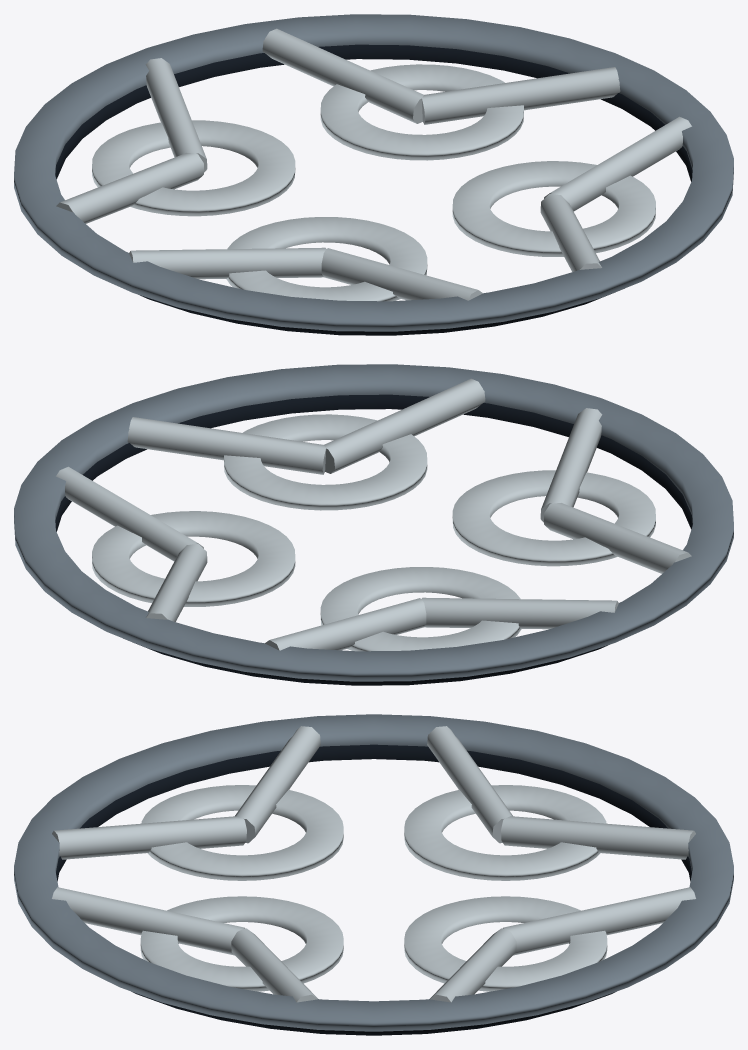
Rendered from sls_core_engine_frame.glb.
The picture shows the model from 3 angles, top to bottom: view 1: azimuth 30°, elevation 25°; view 2: azimuth 150°, elevation 25°; view 3: azimuth 270°, elevation 25°; orthographic projection.
Parts seen in each view (by area): view 1: sls_core_engine_frame.mesh_Satin_aluminum, sls_core_engine_frame.mesh_Machined_steel, sls_core_engine_frame.mesh_Shadowed_interior; view 2: sls_core_engine_frame.mesh_Satin_aluminum, sls_core_engine_frame.mesh_Machined_steel, sls_core_engine_frame.mesh_Shadowed_interior; view 3: sls_core_engine_frame.mesh_Satin_aluminum, sls_core_engine_frame.mesh_Machined_steel, sls_core_engine_frame.mesh_Shadowed_interior.
Part boxes in pixels (left/top/right/bottom): sls_core_engine_frame.mesh_Satin_aluminum: left=56, top=28, right=691, bottom=301; sls_core_engine_frame.mesh_Machined_steel: left=14, top=14, right=733, bottom=331; sls_core_engine_frame.mesh_Shadowed_interior: left=55, top=44, right=692, bottom=335; sls_core_engine_frame.mesh_Satin_aluminum: left=56, top=378, right=691, bottom=651; sls_core_engine_frame.mesh_Machined_steel: left=14, top=364, right=733, bottom=681; sls_core_engine_frame.mesh_Shadowed_interior: left=55, top=394, right=692, bottom=685; sls_core_engine_frame.mesh_Satin_aluminum: left=52, top=726, right=695, bottom=1002; sls_core_engine_frame.mesh_Machined_steel: left=14, top=714, right=733, bottom=1031; sls_core_engine_frame.mesh_Shadowed_interior: left=56, top=744, right=691, bottom=1035.
Size of the model in its own units: 8.34 by 0.4889 by 8.34.
